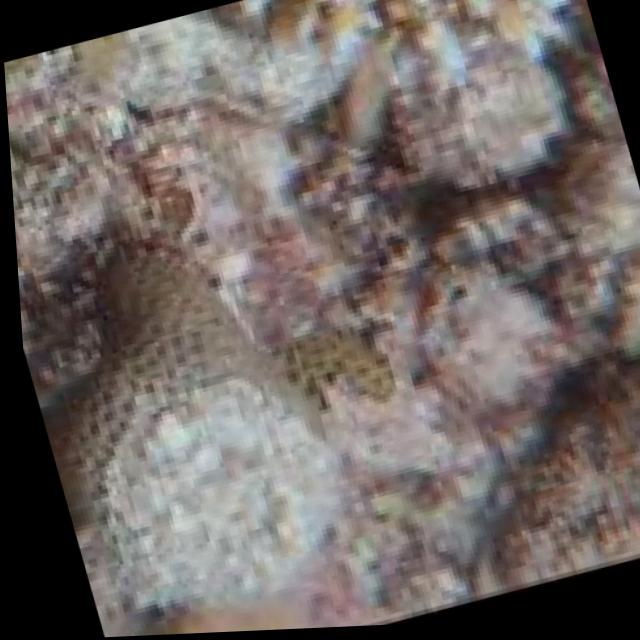Bleached Coral: (73, 372, 326, 619)
